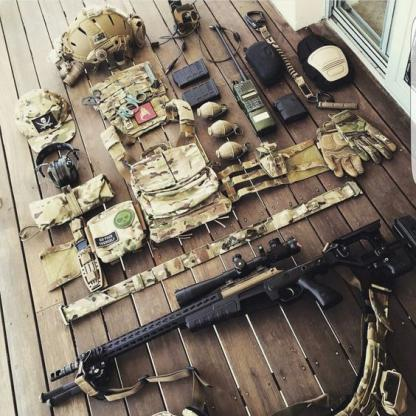Grenade: (214, 139, 254, 160), (196, 100, 232, 122), (207, 119, 244, 138)
Gun: (37, 213, 416, 409)
Knife: (68, 218, 102, 292)
